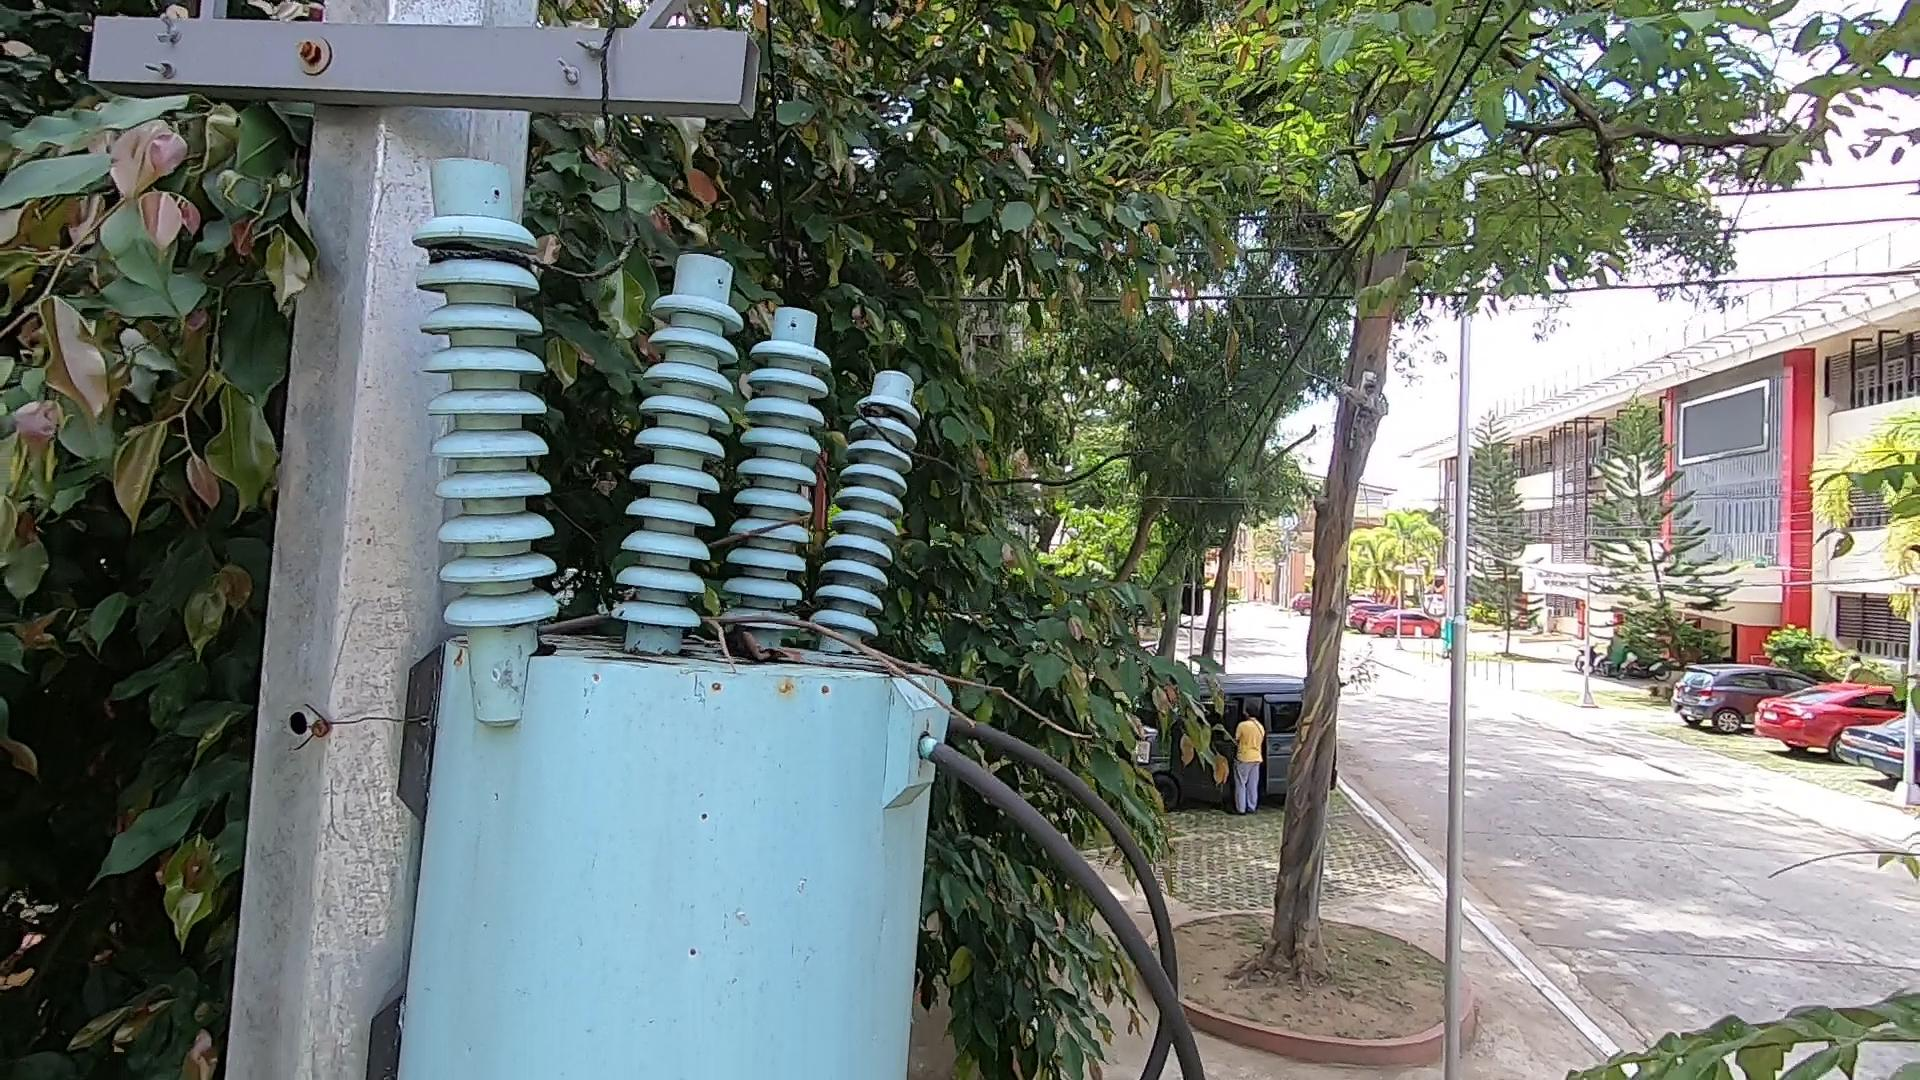leaf: (692, 609, 785, 671)
tree branch: (531, 559, 1102, 789)
